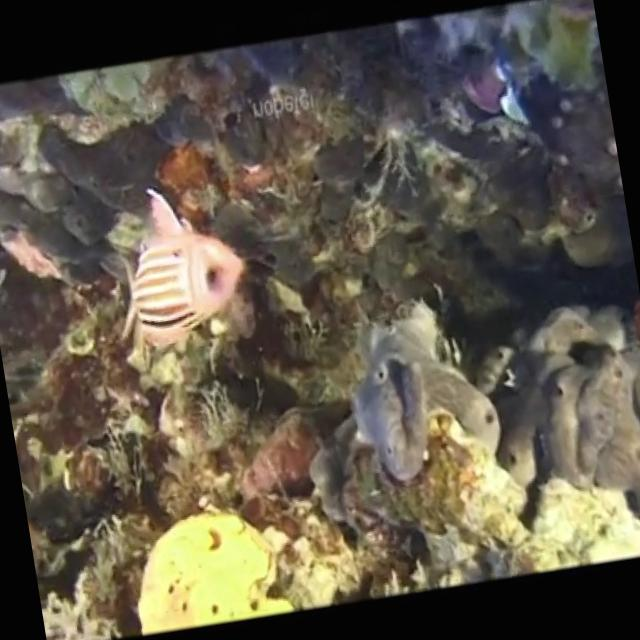Asker Baligi: (98, 174, 260, 360)
